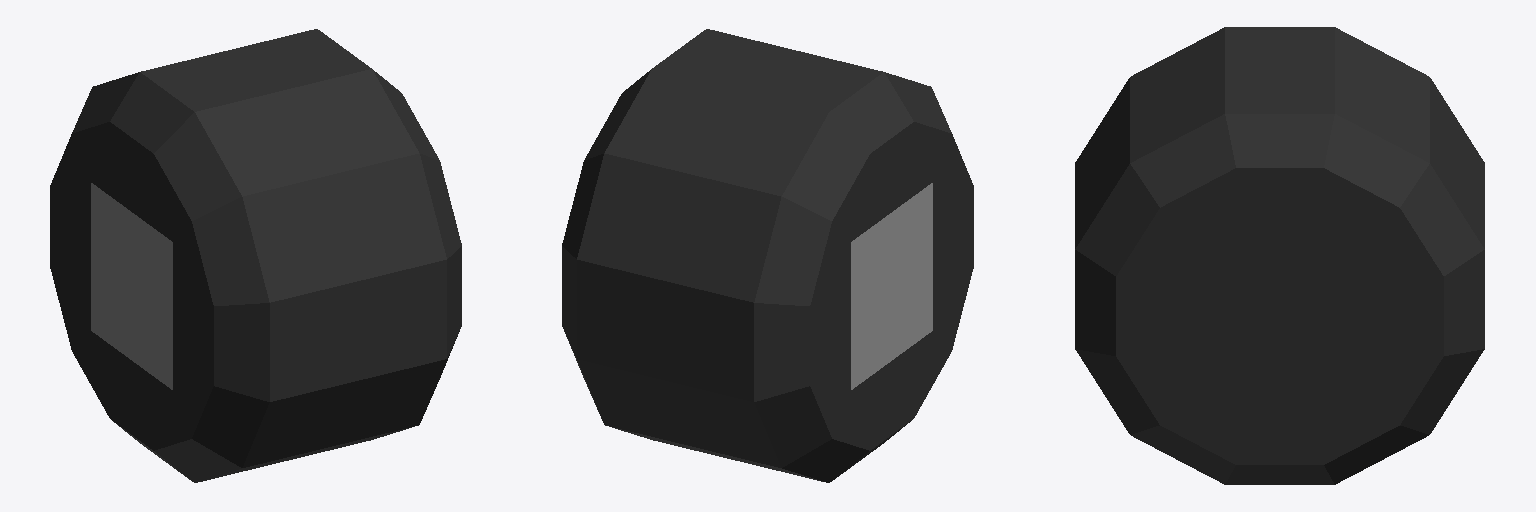
3 views of the same model, side by side, from view 1: azimuth 30°, elevation 25°; view 2: azimuth 150°, elevation 25°; view 3: azimuth 270°, elevation 25° (orthographic).
Parts seen in each view (by area): view 1: wheel; view 2: wheel; view 3: wheel.
Boxes of the visible parts, x1,y1,x2,y2 form: wheel: [50, 29, 461, 482]; wheel: [562, 29, 973, 482]; wheel: [1075, 27, 1484, 484].
Size of the model in its own units: 0.2188 by 0.3125 by 0.3125.
Materials: 1 (1 with a texture image).